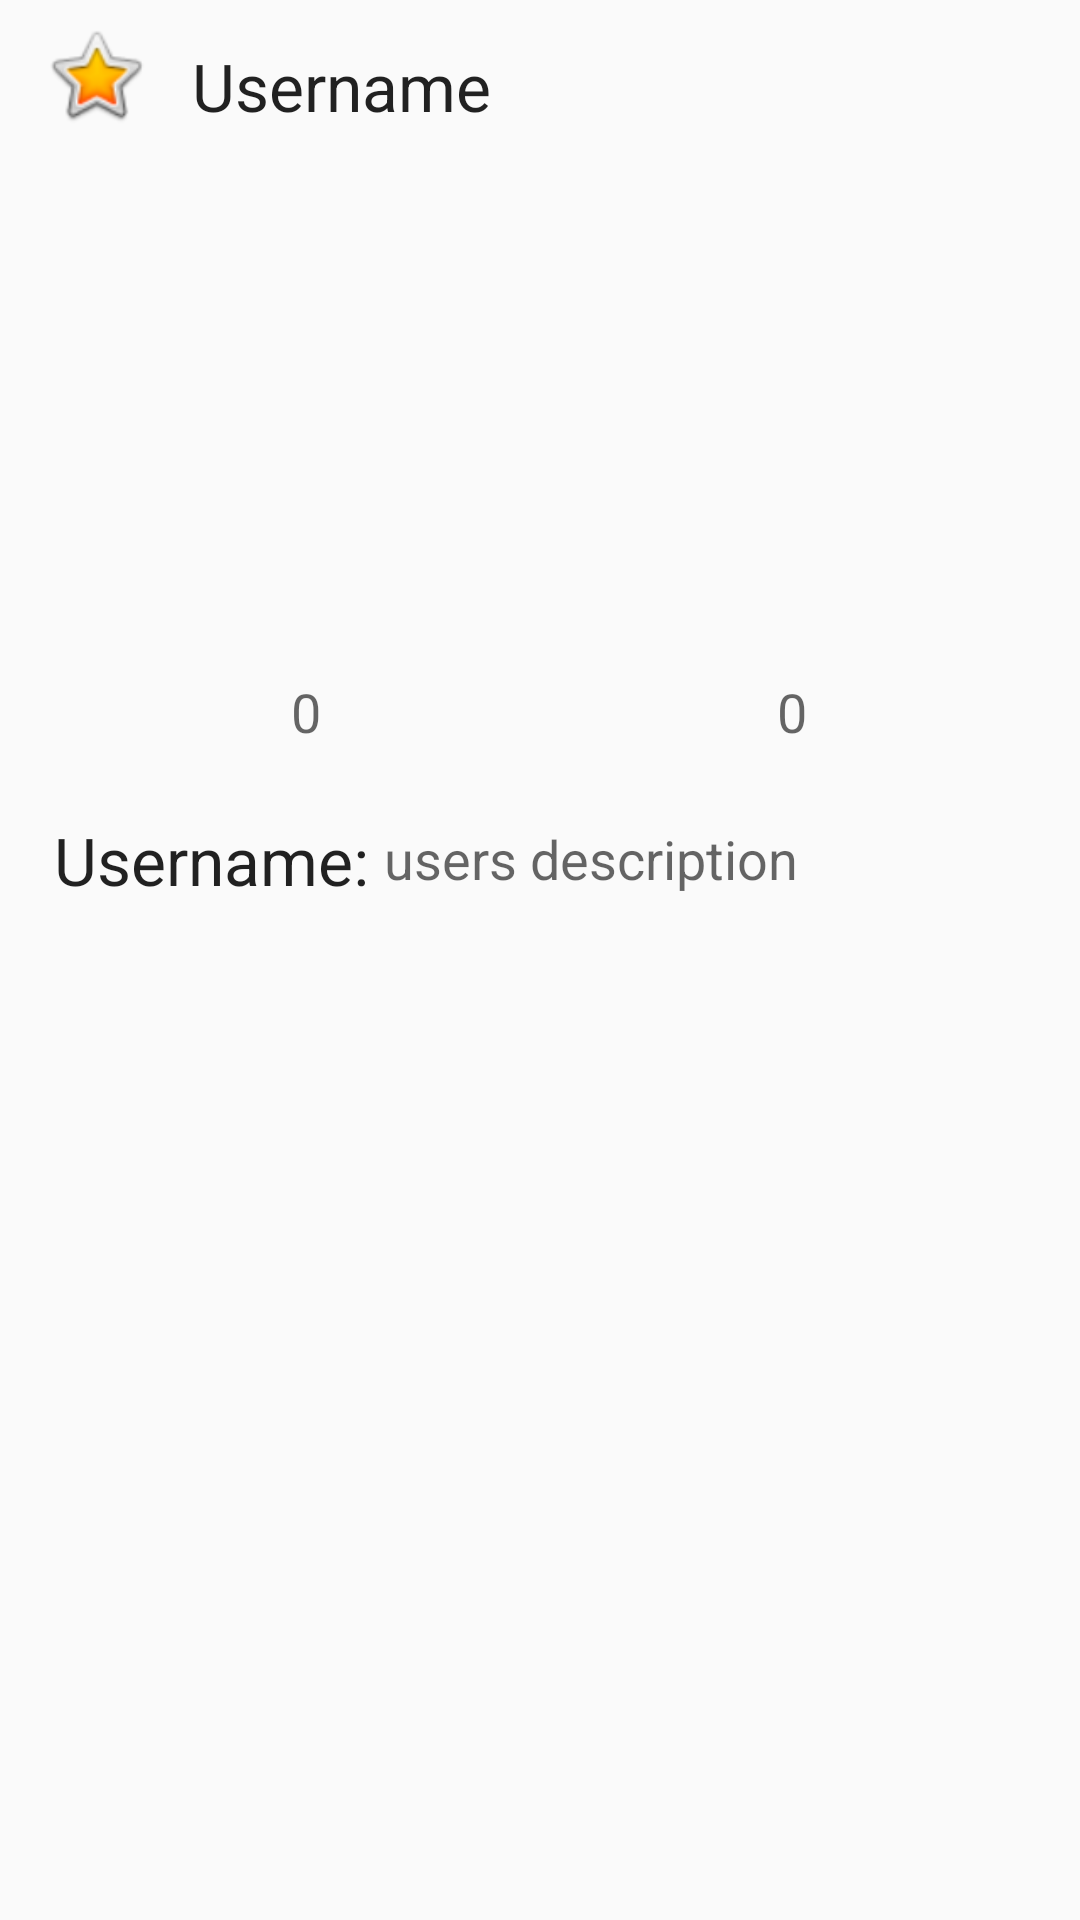

Screen size 1080px×1920px. Icon name, then its box in pixels as (x1, y1, x2, y2):
star on: (52, 32, 142, 120)
